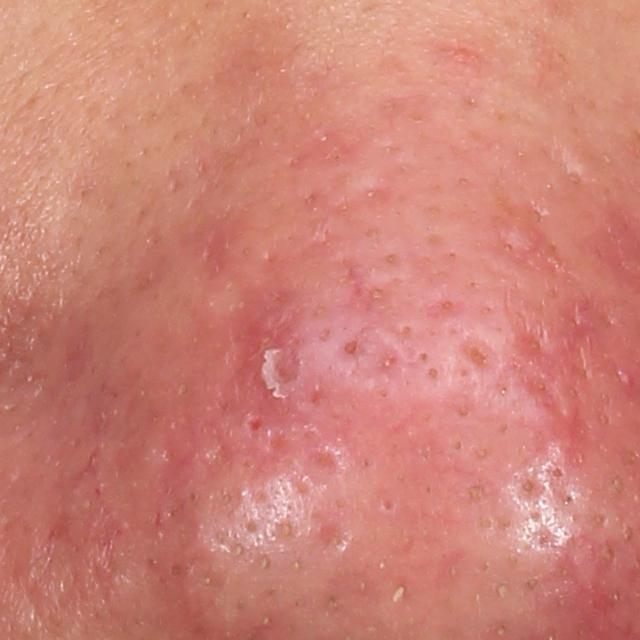comedo: (380, 497, 395, 515)
